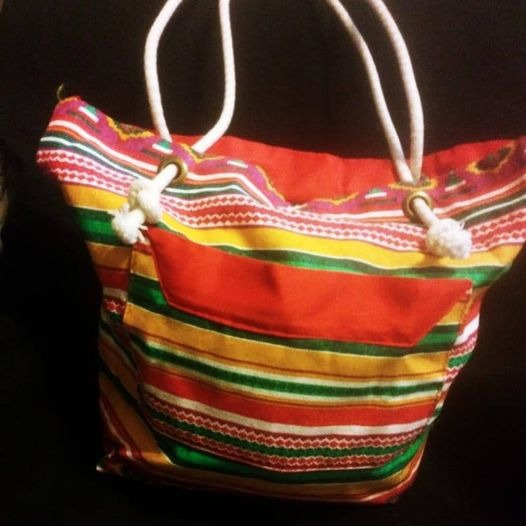cartera: (35, 5, 526, 504)
